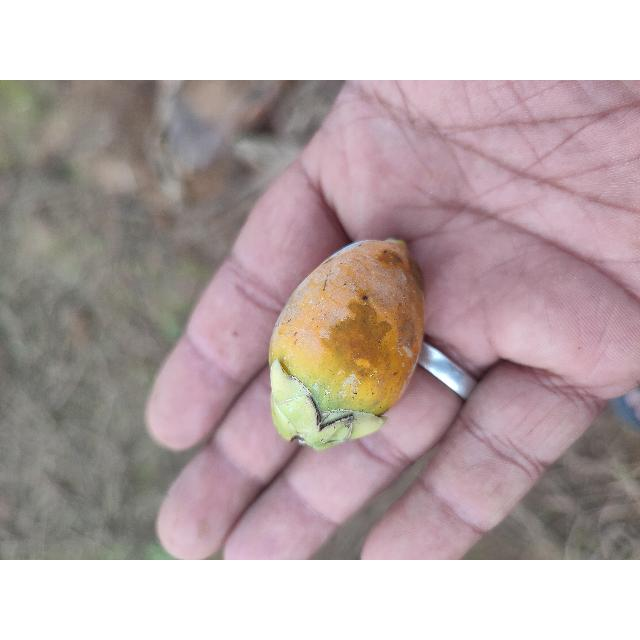good: (267, 239, 426, 452)
